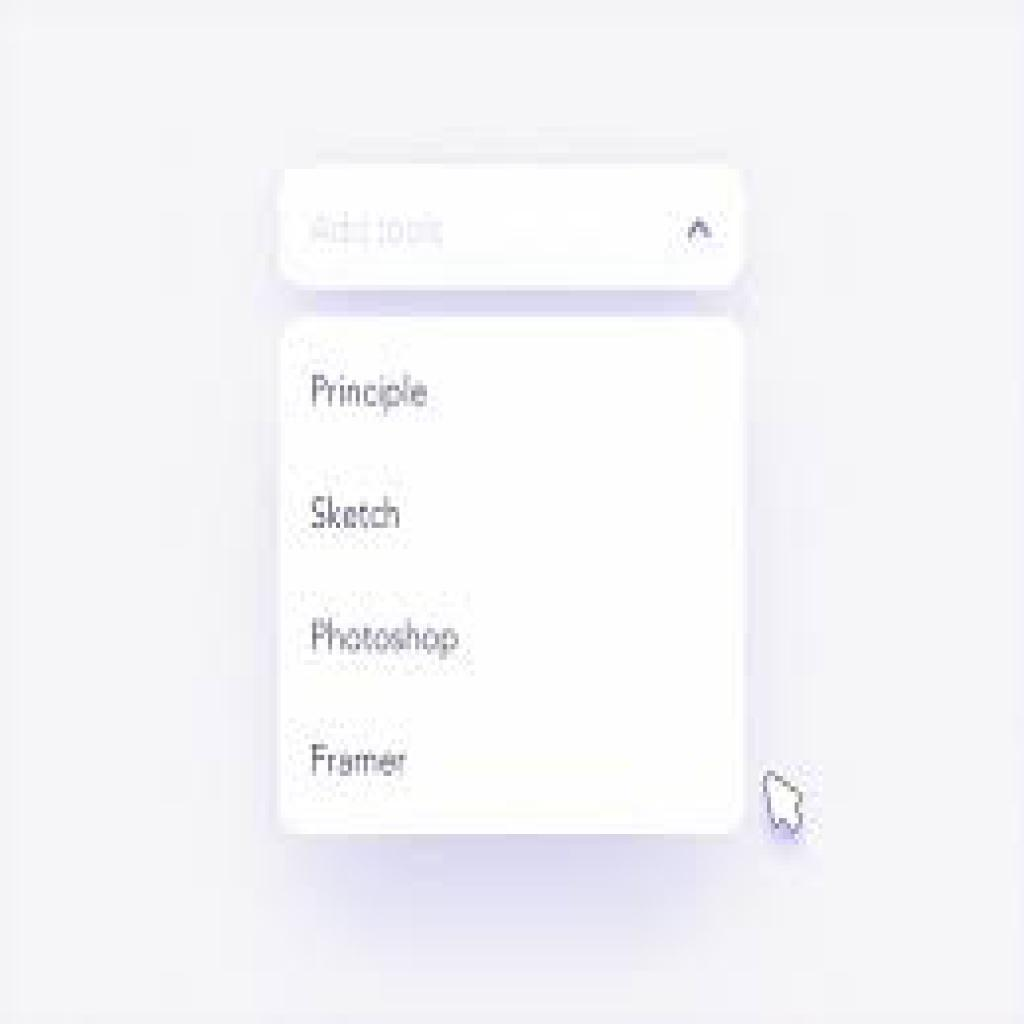dropdown: (282, 164, 751, 291)
